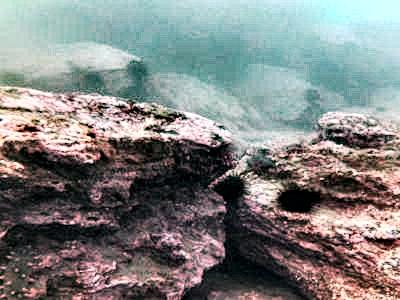urchin: (275, 188, 312, 214), (213, 173, 246, 202)
